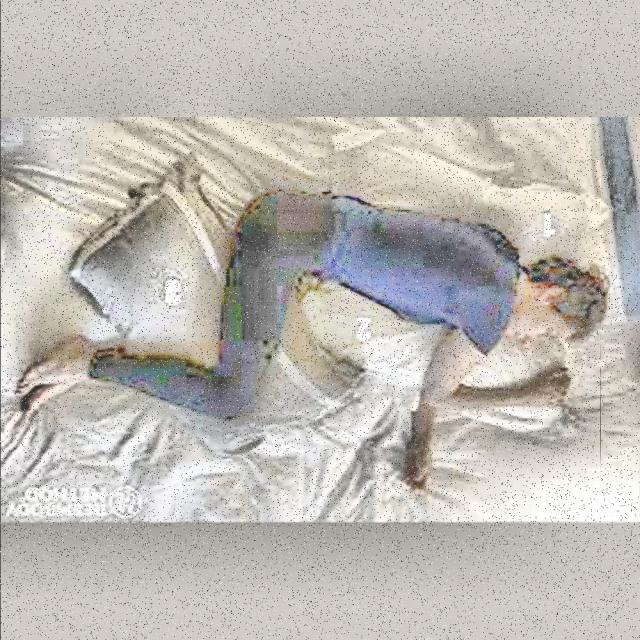Not_Supine: (18, 191, 608, 417)
